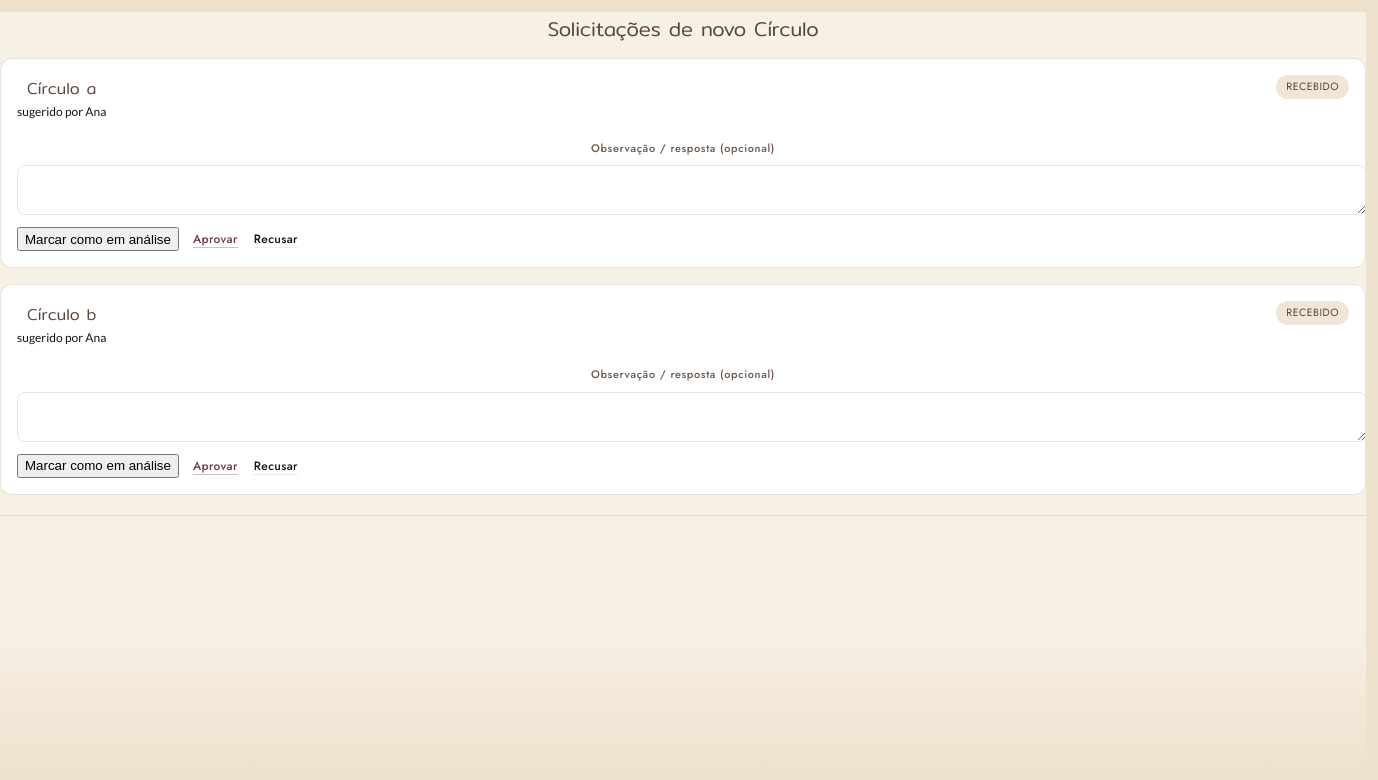
it: Solicitações de novo Círculo (profissional) › recusar também tira da lista
Expected: the text "Círculo a" is shown, [27,76,96,101]
Step 1. Click the button "Recusar" below "Círculo a" → (276,239), box [252,227,300,251]
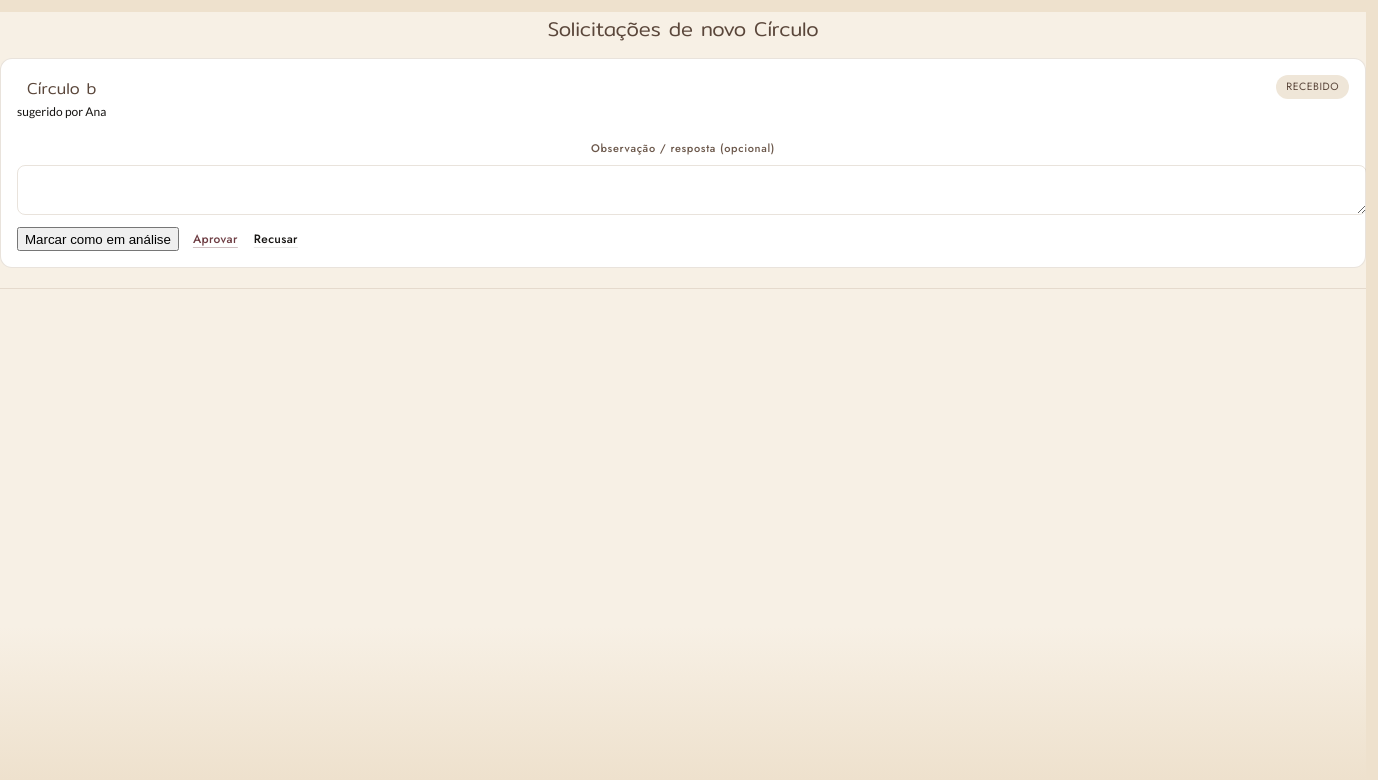
Now the text "Círculo a" is gone
